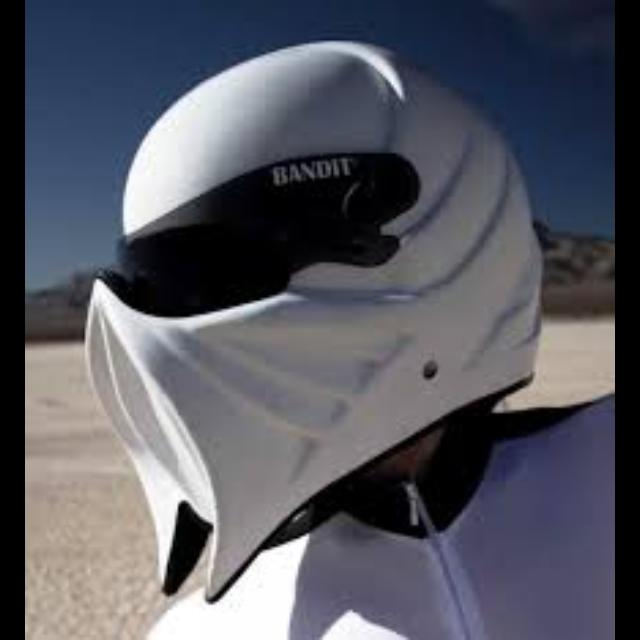motorcycle-helmets: (88, 44, 539, 599)
